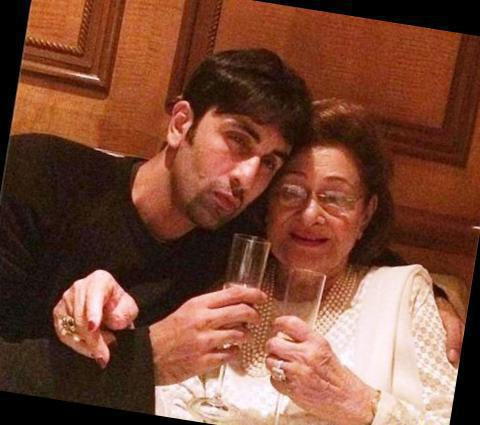Drunk: (192, 104, 279, 218), (272, 161, 358, 267)
